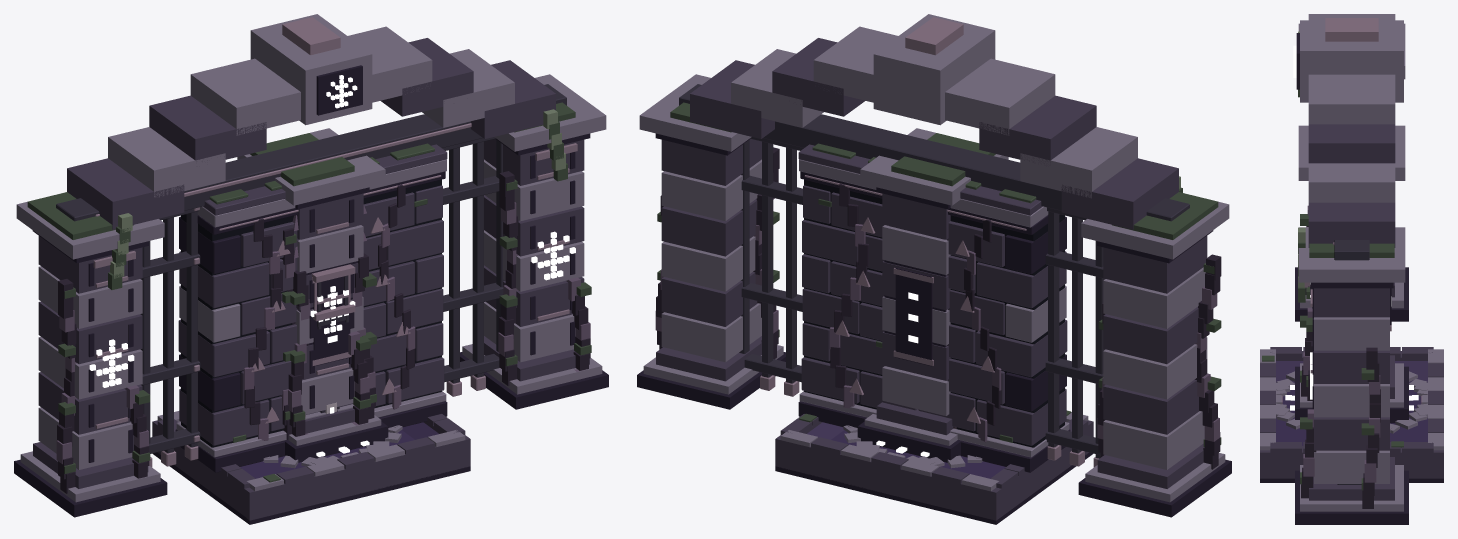
File: nightroot-kit.glb
3 renders of one model, left to right at view 1: azimuth 30°, elevation 25°; view 2: azimuth 150°, elevation 25°; view 3: azimuth 270°, elevation 25°, orthographic. The views are drawn at different scales.
Visible parts, largest first — view 1: arch-stone, wall-stone, pillar-stone, gate-leaf, pool-stone, gate-stone, guardian-stone, arch-glow, brazier-stone, pool-water; view 2: arch-stone, wall-stone, pillar-stone, gate-leaf, pool-stone, gate-stone, guardian-stone, pool-water; view 3: arch-stone, pool-stone, pillar-stone, pool-water, guardian-stone, checkpoint-stone, gate-stone, seal-stone, arch-glow.
Part boxes in pixels (left/top/right/bottom): arch-stone: left=14, top=14, right=608, bottom=517; wall-stone: left=175, top=143, right=447, bottom=472; pillar-stone: left=237, top=128, right=387, bottom=461; gate-leaf: left=140, top=137, right=504, bottom=467; pool-stone: left=152, top=411, right=470, bottom=524; gate-stone: left=56, top=84, right=566, bottom=221; guardian-stone: left=285, top=232, right=388, bottom=462; arch-glow: left=89, top=75, right=575, bottom=387; brazier-stone: left=312, top=264, right=355, bottom=329; pool-water: left=240, top=422, right=438, bottom=478; arch-stone: left=637, top=14, right=1231, bottom=517; wall-stone: left=798, top=143, right=1070, bottom=472; pillar-stone: left=857, top=128, right=1008, bottom=462; gate-leaf: left=739, top=137, right=1105, bottom=467; pool-stone: left=775, top=410, right=1093, bottom=524; gate-stone: left=679, top=84, right=1189, bottom=221; guardian-stone: left=857, top=267, right=960, bottom=462; pool-water: left=807, top=422, right=1005, bottom=478; arch-stone: left=1295, top=14, right=1408, bottom=524; pool-stone: left=1260, top=347, right=1443, bottom=482; pillar-stone: left=1295, top=125, right=1408, bottom=421; pool-water: left=1276, top=361, right=1427, bottom=445; guardian-stone: left=1295, top=287, right=1408, bottom=423; checkpoint-stone: left=1276, top=371, right=1427, bottom=432; gate-stone: left=1333, top=240, right=1369, bottom=484; seal-stone: left=1276, top=379, right=1427, bottom=433; arch-glow: left=1293, top=45, right=1313, bottom=399.
Bounding box in the file's own units: 9.2 × 7.1 × 2.9.
